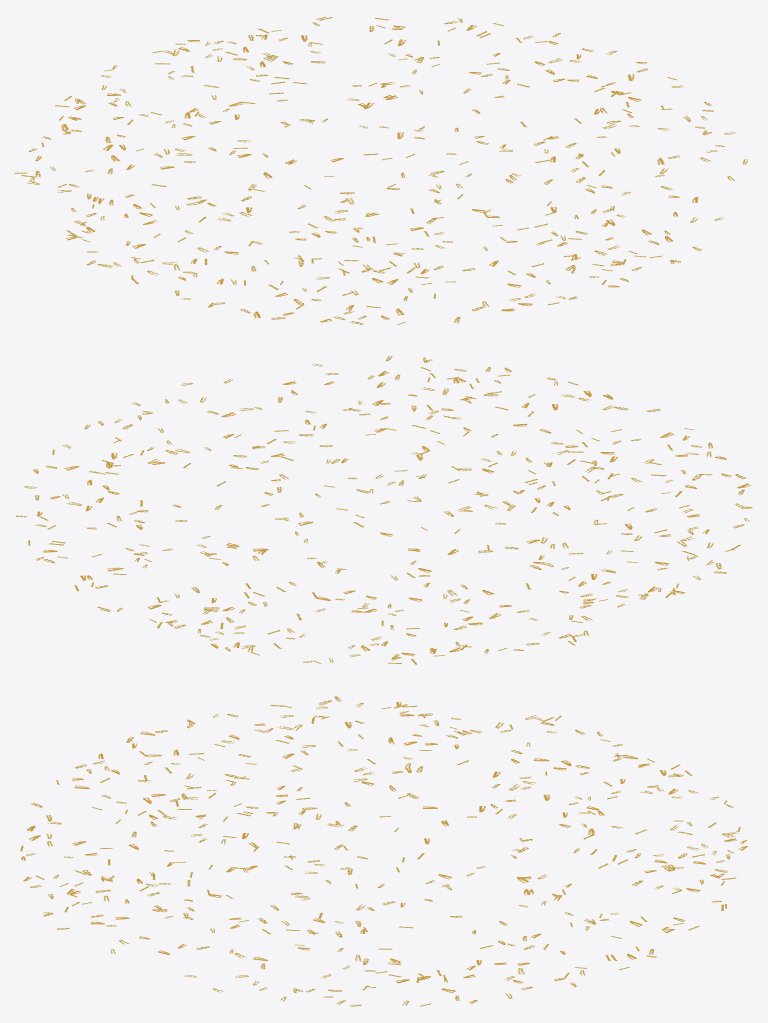
The model's file is saule_adulte_c.fbx.
3 renders of one model, top to bottom at view 1: azimuth 30°, elevation 25°; view 2: azimuth 150°, elevation 25°; view 3: azimuth 270°, elevation 25°, orthographic.
Parts seen in each view (by area): view 1: saule_adulte_c_feuilles_sol; view 2: saule_adulte_c_feuilles_sol; view 3: saule_adulte_c_feuilles_sol.
Boxes of the visible parts, x1,y1,x2,y2 form: saule_adulte_c_feuilles_sol: (14,17,748,324); saule_adulte_c_feuilles_sol: (16,356,752,664); saule_adulte_c_feuilles_sol: (20,696,747,1006).
Size of what is drawn, in the model's own units: 20.18 by 0.00596 by 20.11.
